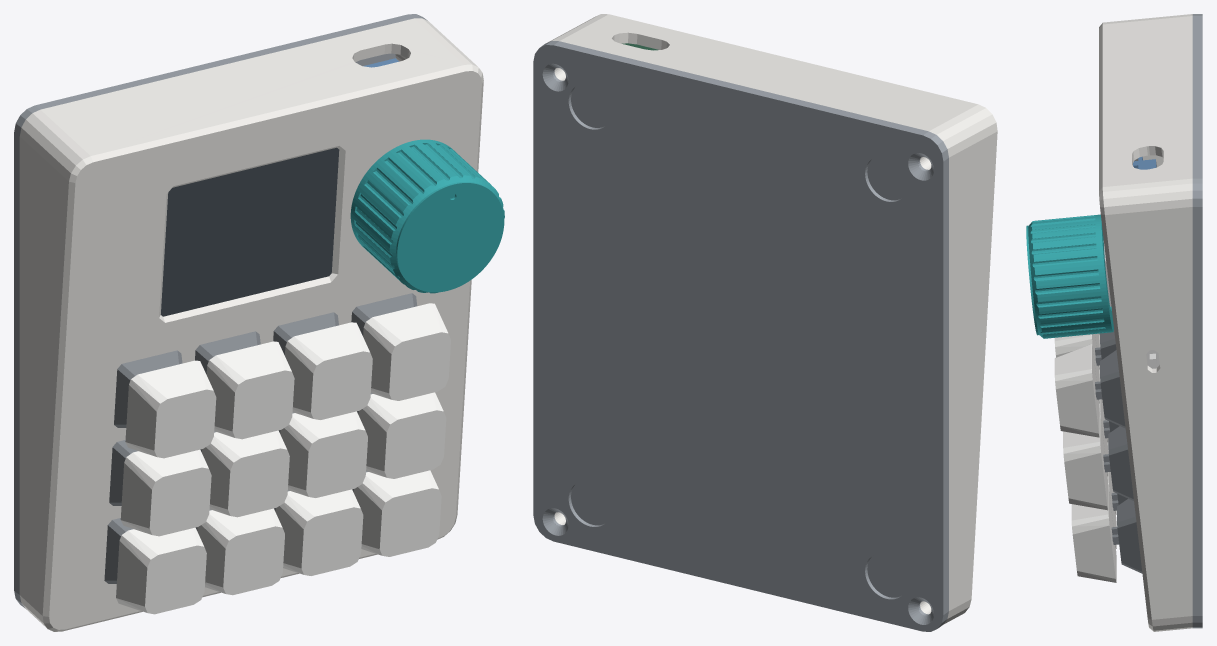
File: viewer_B.glb
The picture shows the model from 3 angles, left to right: view 1: azimuth 30°, elevation 25°; view 2: azimuth 150°, elevation 25°; view 3: azimuth 270°, elevation 25°; orthographic projection. The views are drawn at different scales.
Visible parts, largest first — view 1: top, keycaps, display, knob, switches, bottom; view 2: bottom, top; view 3: top, keycaps, knob, bottom, switches.
Part boxes in pixels (x1,y1,x2,y2): top: [19, 18, 483, 631]; keycaps: [116, 303, 450, 614]; display: [161, 147, 339, 316]; knob: [350, 139, 504, 293]; switches: [104, 293, 417, 583]; bottom: [14, 14, 427, 608]; bottom: [533, 41, 948, 631]; top: [547, 14, 997, 624]; top: [1099, 14, 1192, 631]; keycaps: [1054, 333, 1116, 582]; knob: [1026, 214, 1113, 338]; bottom: [1192, 14, 1202, 628]; switches: [1095, 330, 1142, 573].
Size of the model in its own units: 101 by 118 by 41.72.
